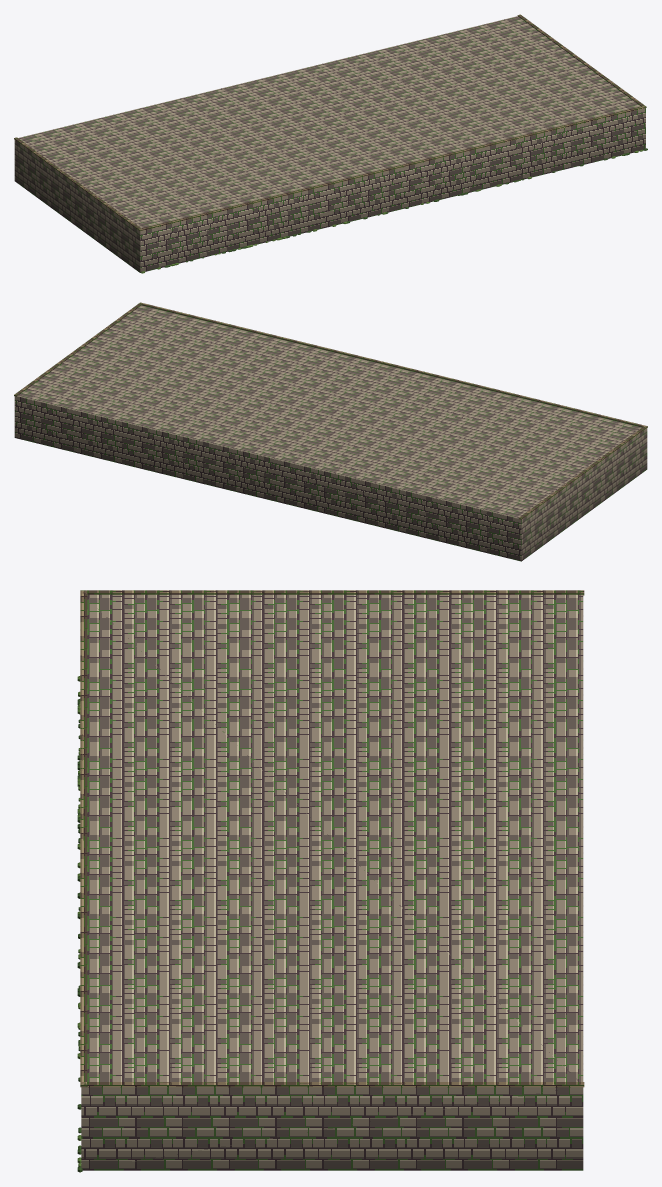
Rendered from scene_wall_n.glb.
3 renders of one model, top to bottom at view 1: azimuth 30°, elevation 25°; view 2: azimuth 150°, elevation 25°; view 3: azimuth 270°, elevation 25°, orthographic. The views are drawn at different scales.
Visible parts, largest first — view 1: scene_wall_n; view 2: scene_wall_n; view 3: scene_wall_n.
Boxes of the visible parts, left/top/right/bottom form: scene_wall_n: left=14, top=14, right=647, bottom=273; scene_wall_n: left=14, top=302, right=647, bottom=561; scene_wall_n: left=77, top=590, right=584, bottom=1172.
Bounding box in the file's own units: 60.26 × 4.97 × 26.04.
Materials: 2 (1 with a texture image).
